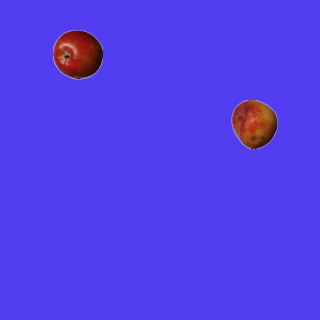Apple Braeburn: (52, 29, 102, 79)
Peach: (229, 99, 279, 149)
